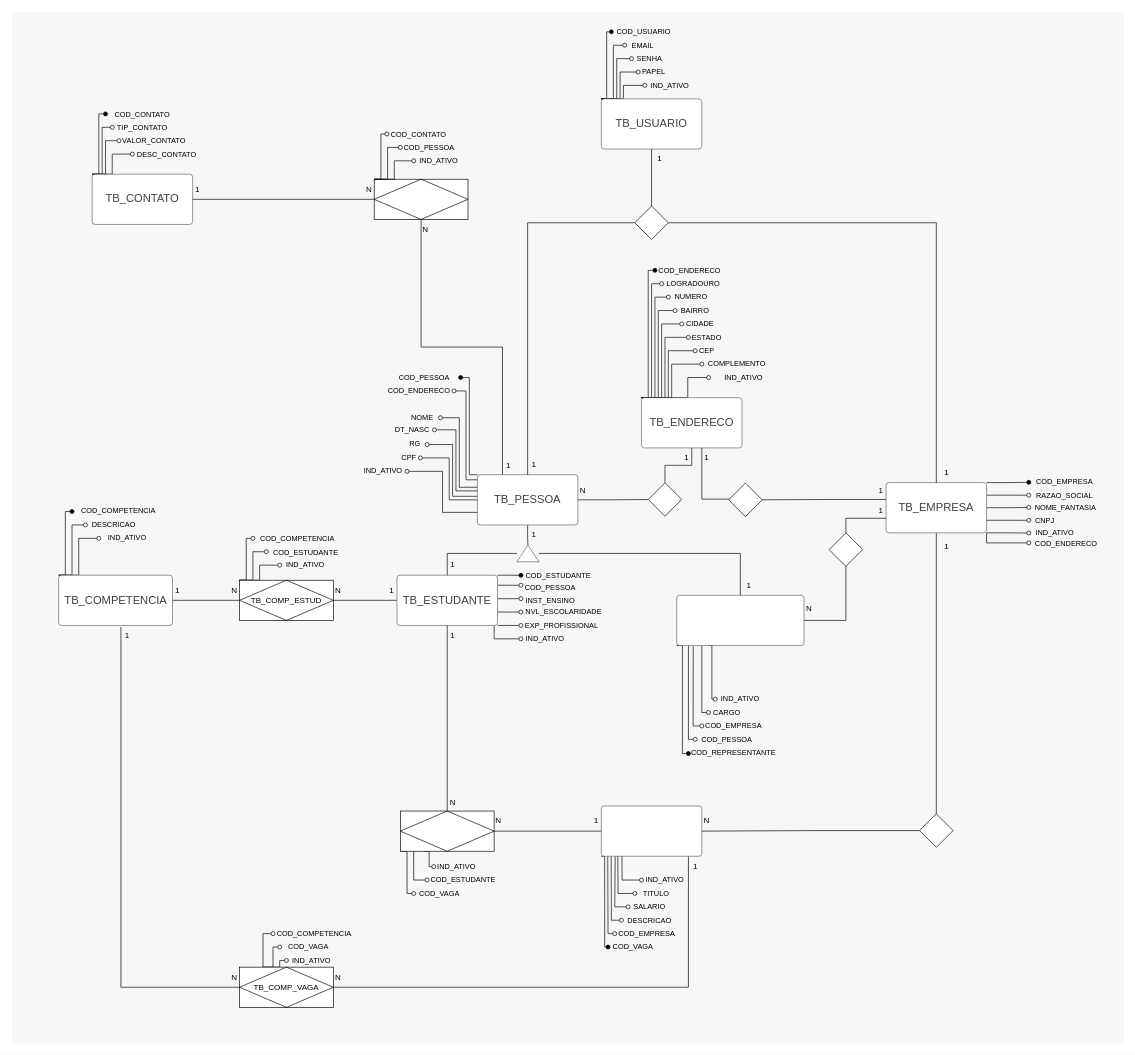
Some shapes in this 1135 by 1055 pixel diagram are drawn without their labels. Here are the shapes that lost their labels. From the top down, the box of each, then its label:
(374, 179, 468, 219): TB_CONT_PESSOA
(676, 595, 804, 645): TB_REPRESENTANTE
(400, 810, 494, 851): TB_ESTUD_VAGA
(601, 805, 702, 856): TB_VAGA
